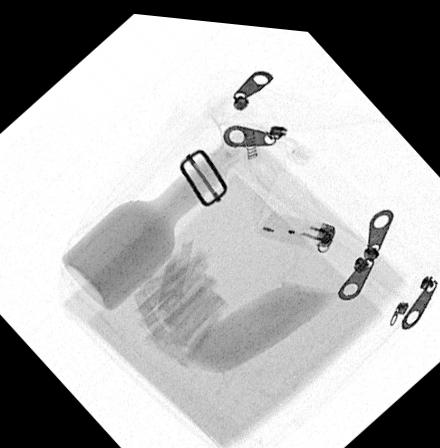Lighter: (256, 204, 335, 245)
